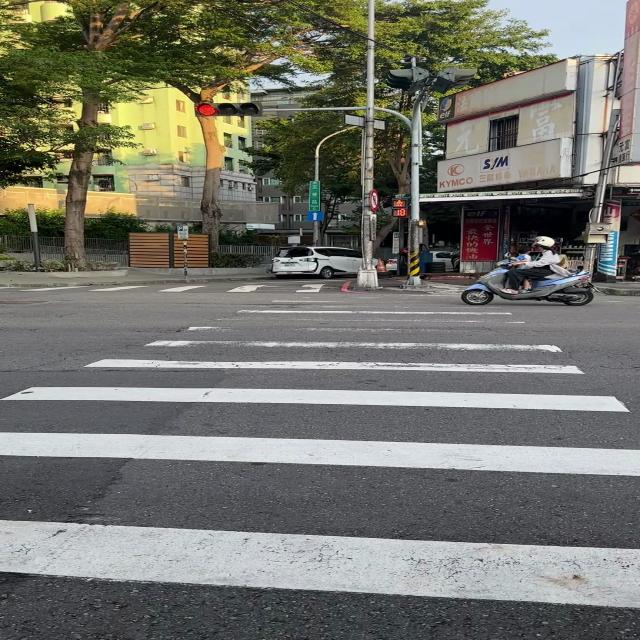car: (269, 246, 362, 278)
crosswalk: (0, 294, 633, 413), (0, 283, 329, 292)
motocycle: (461, 260, 593, 305)
